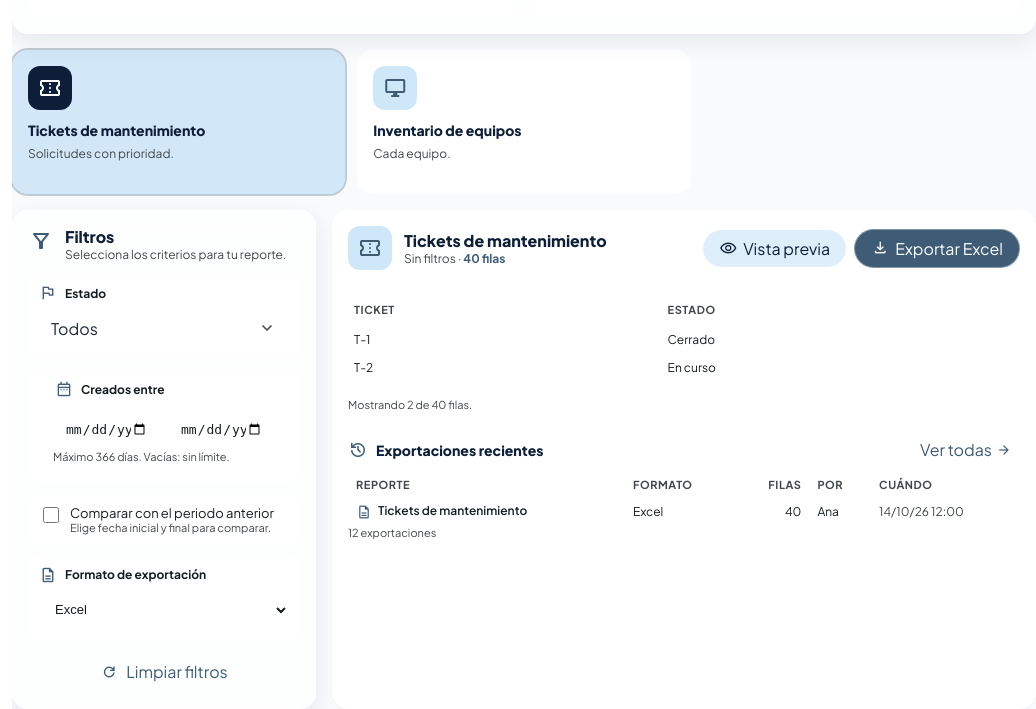
Test: ReportsComponent › builder › asks for the preview as soon as the report is shown, and again (debounced) when a filter changes
(page scrolled)
Click the button "Todos". click: (164, 328)
box: [39, 308, 289, 348]
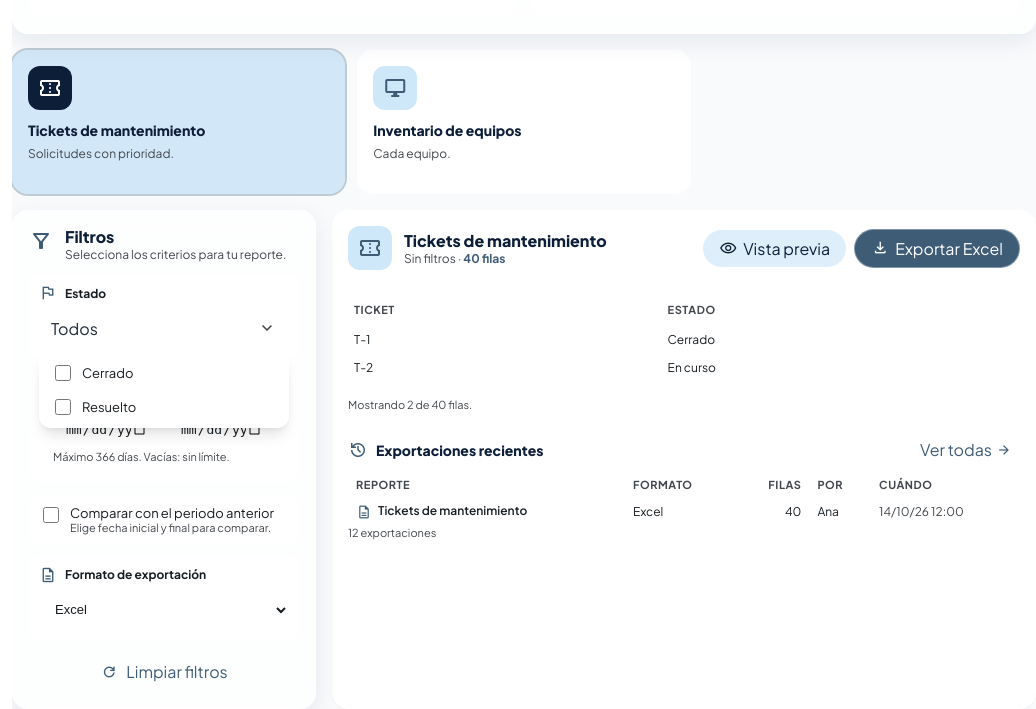
Click the checkbox labelled "Cerrado". click: (63, 373)
box: [55, 365, 71, 381]
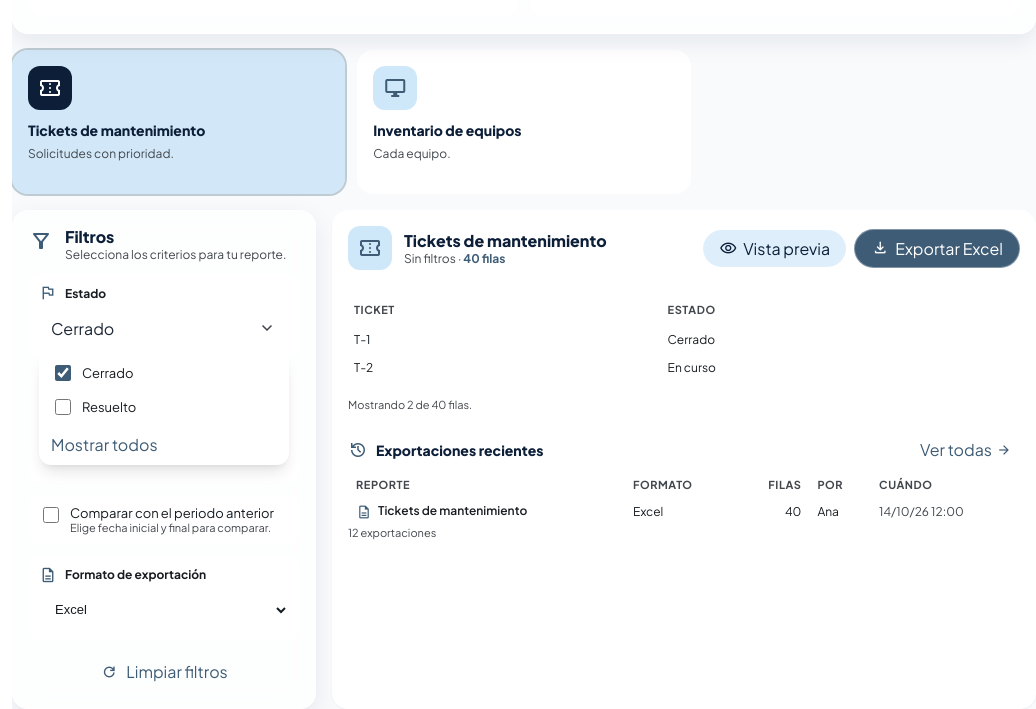
Click the checkbox labelled "Resuelto". click: (63, 407)
box: [55, 399, 71, 415]
Wait 350 ms
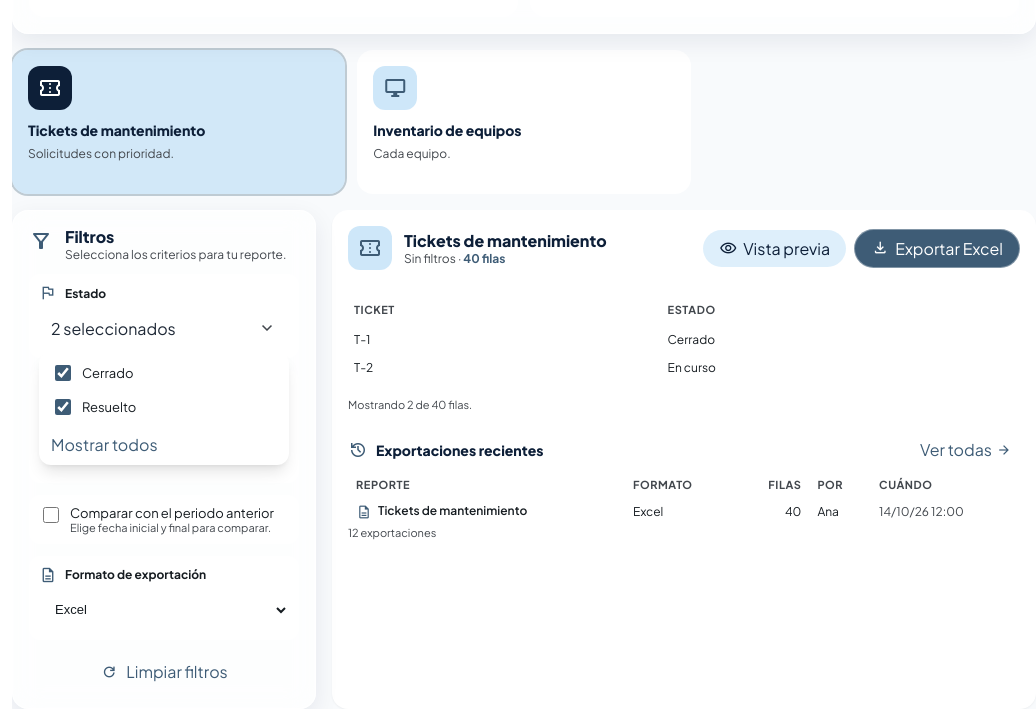
Expected: the button "2 seleccionados" is shown, [39, 308, 289, 348]
Click the checkbox labelled "Cerrado". click: (63, 373)
box: [55, 365, 71, 381]
Wait 350 ms
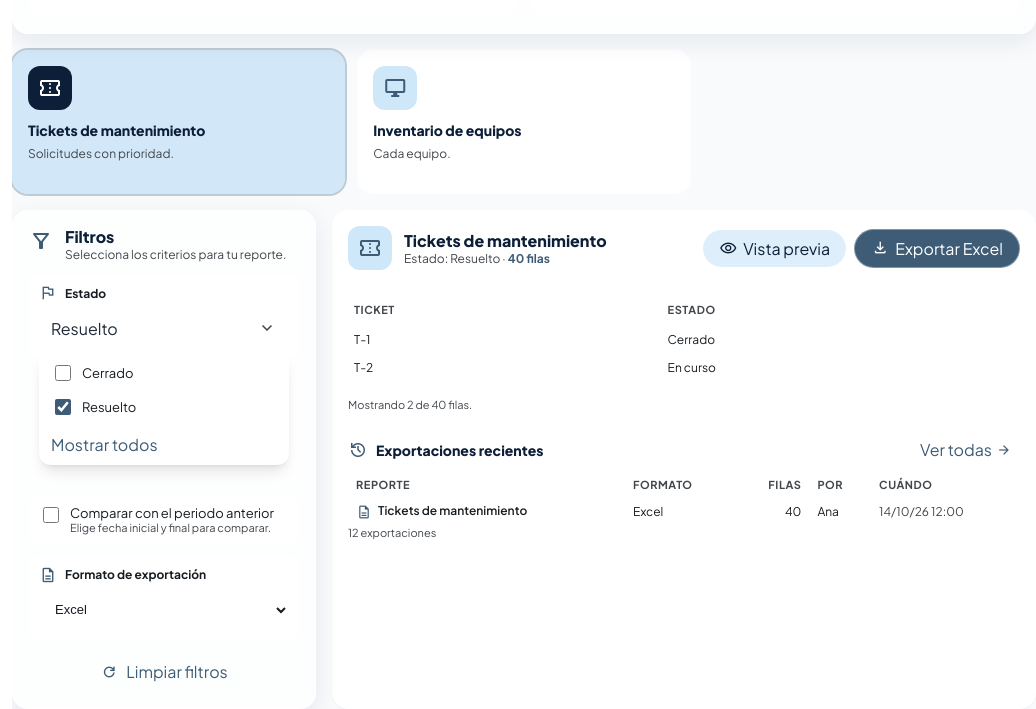
Expected: the button "Resuelto" is shown, [39, 308, 289, 348]
